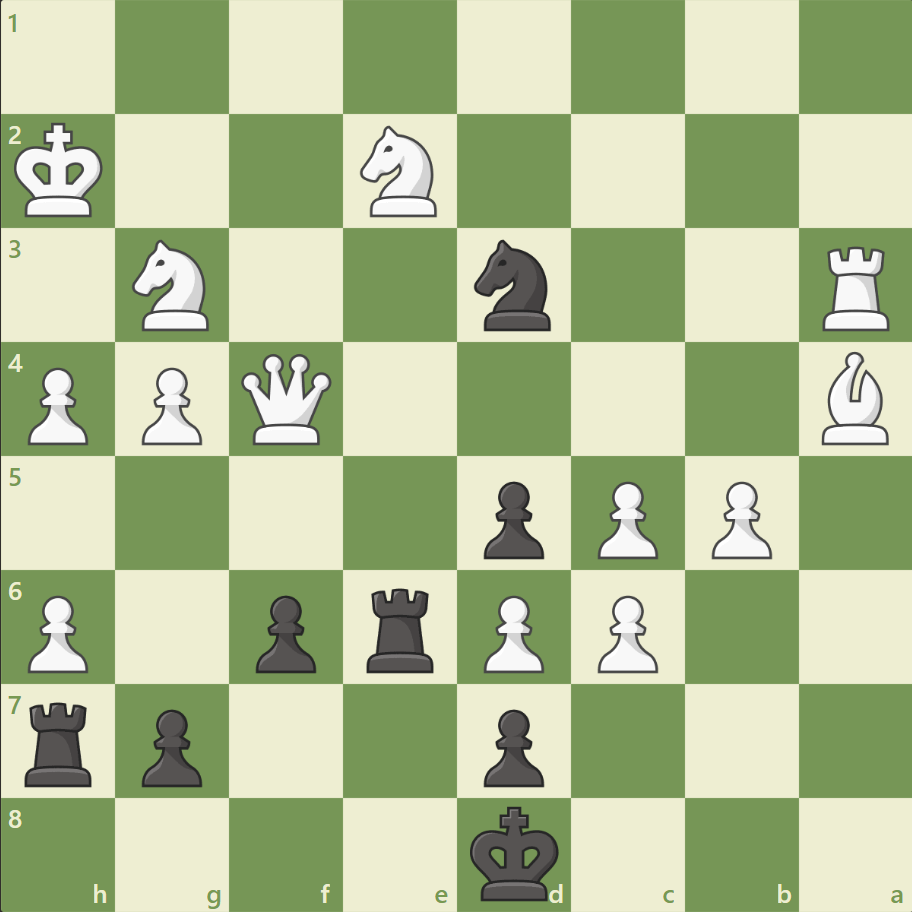B: (812, 347, 896, 449)
K: (11, 117, 111, 225)
N: (124, 234, 222, 337), (351, 121, 449, 223)
P: (474, 586, 549, 677), (20, 586, 95, 677), (701, 473, 776, 564), (133, 359, 208, 450), (20, 359, 95, 450), (588, 586, 662, 677), (588, 473, 662, 564)
Q: (237, 349, 336, 449)
R: (814, 239, 897, 336)
k: (465, 798, 565, 906)
n: (465, 234, 562, 337)
p: (474, 700, 549, 791), (133, 700, 208, 791), (247, 586, 322, 677), (474, 473, 549, 564)
r: (19, 693, 102, 790), (360, 579, 442, 676)
